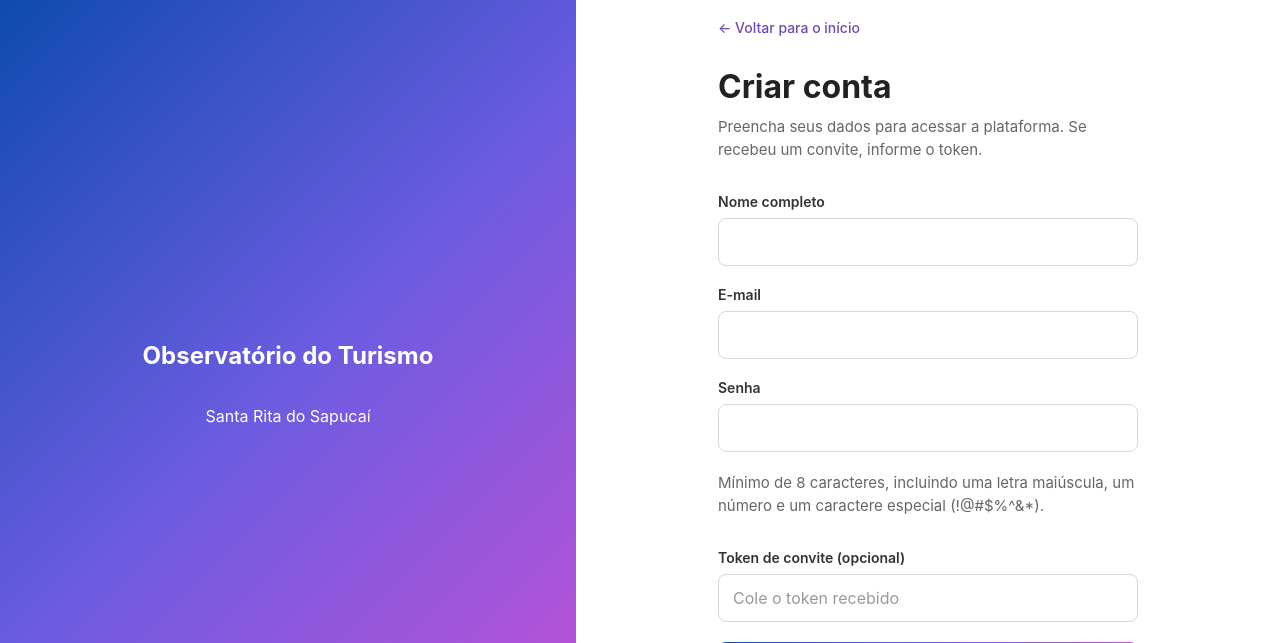
Test: Register - Cadastro com convite › desabilita o botão durante o cadastro
In the field labelled "Nome completo": (928, 242) [718, 218, 1138, 266], type "Usuário Teste"
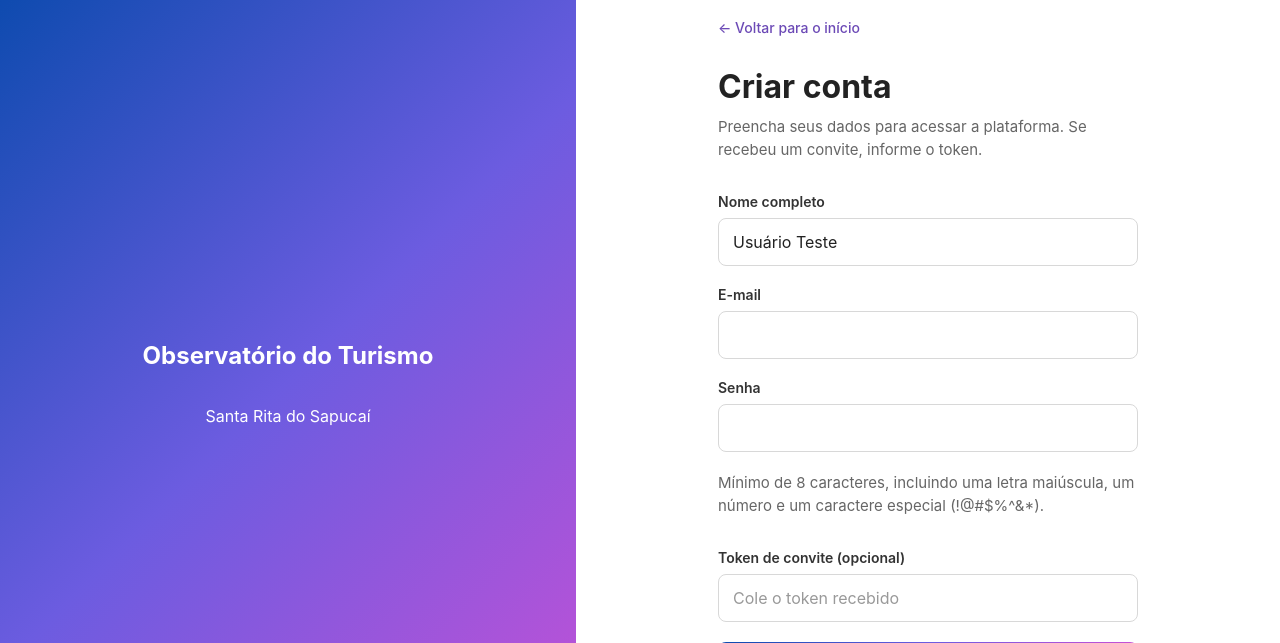
In the field labelled "E-mail": (928, 335) [718, 311, 1138, 359], type "teste@example.com"
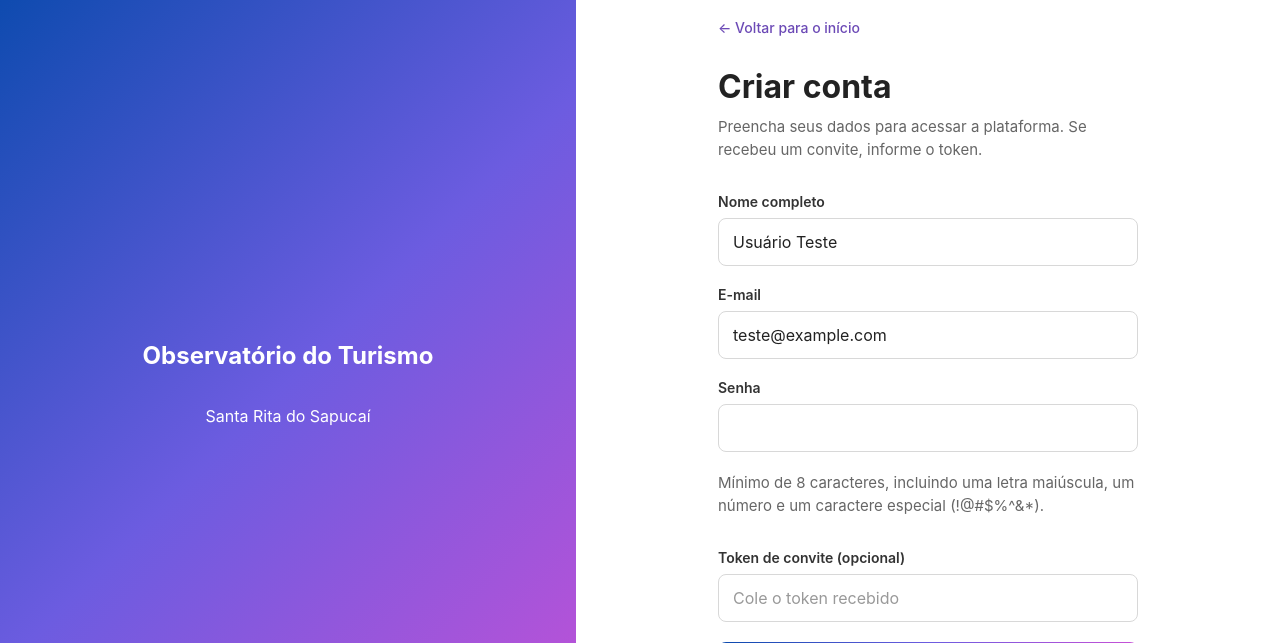
In the password field labelled "Senha": (928, 428) [718, 404, 1138, 452], type "Senha123!"
(page scrolled)
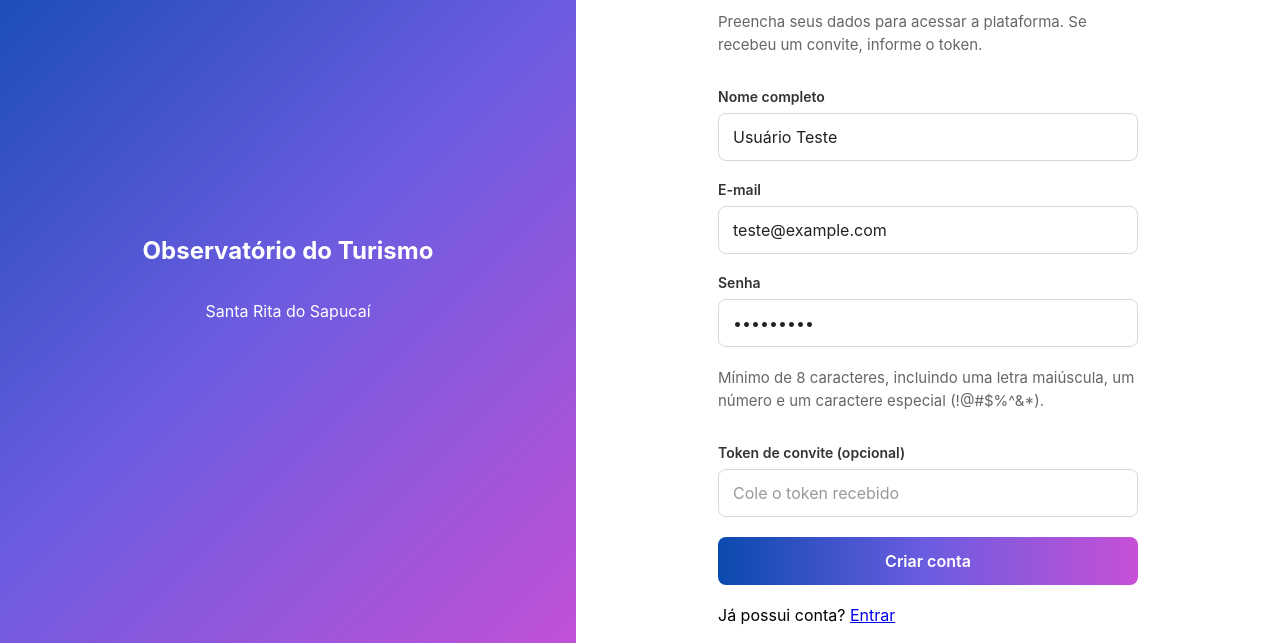
Click the button "Criar conta": click(928, 561) [718, 537, 1138, 585]
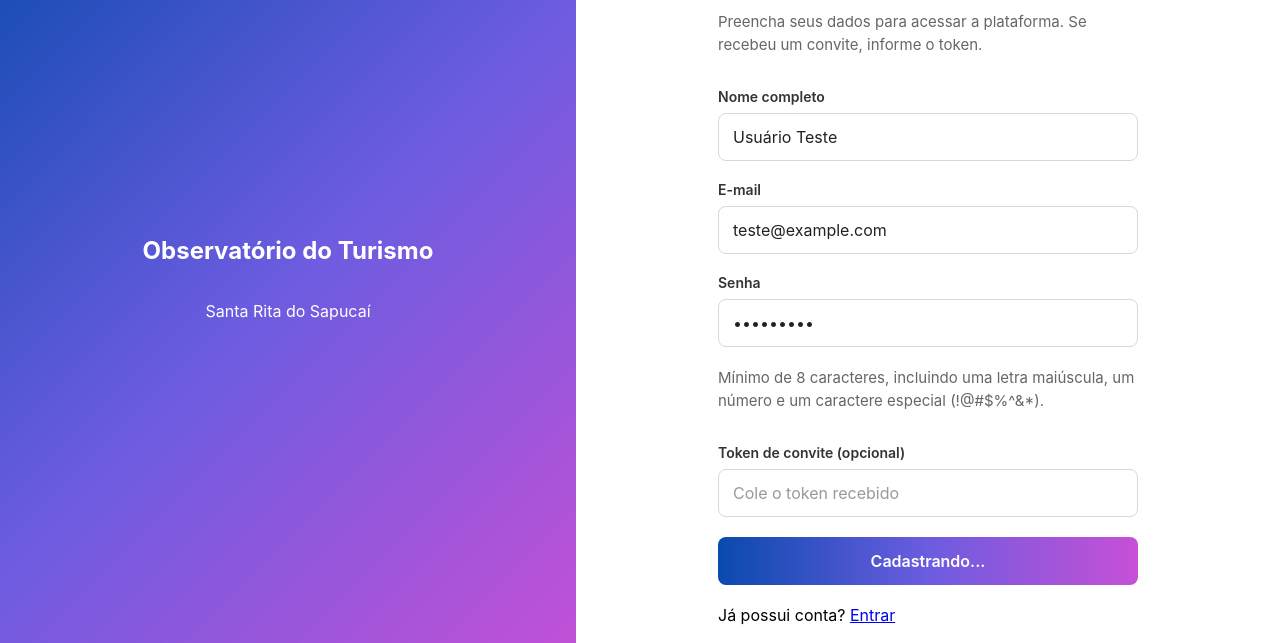
Result: the button "Cadastrando..." is disabled at [718, 537, 1138, 585]
